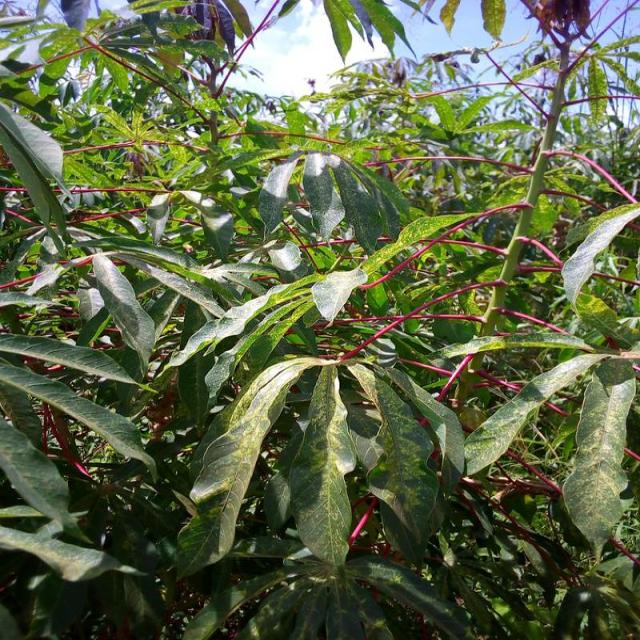cassava leaf: (1, 1, 638, 638), (561, 355, 635, 561), (288, 362, 357, 566)
